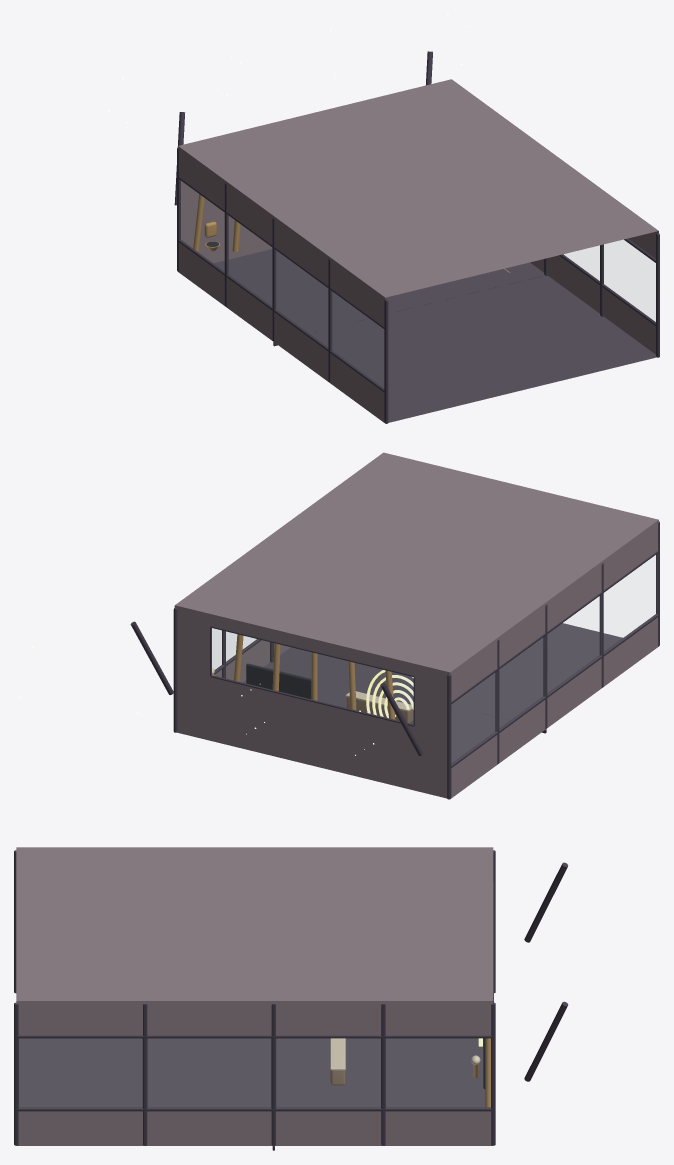
The model's file is cantina.glb.
The picture shows the model from 3 angles, top to bottom: view 1: azimuth 30°, elevation 25°; view 2: azimuth 150°, elevation 25°; view 3: azimuth 270°, elevation 25°; orthographic projection. The views are drawn at different scales.
Visible parts, largest first — view 1: Roof panels - Wall, Floor extension - Floor, Port wall - Wall, Floor - Floor, Port wall - Rib, Starboard wall - Wall, Rear bulkhead - Wall, Starboard wall - Rib, Signature architecture - Brass; view 2: Roof panels - Wall, Rear bulkhead - Wall, Port wall - Wall, Floor extension - Floor, Port wall - Rib, Floor - Floor, Signature architecture - Brass, Rear bulkhead - Rib, Signature architecture - Dark, Starboard wall - Rib, Outside the glazing - Rib, Starboard wall - Wall (+1 smaller); view 3: Roof panels - Wall, Starboard wall - Wall, Floor extension - Floor, Floor - Floor, Starboard wall - Rib, Outside the glazing - Rib, Port wall - Rib, Counter - Pale, Signature architecture - Brass.
Part boxes in pixels (x1=…): Roof panels - Wall: x1=178, y1=79, x2=658, y2=297; Floor extension - Floor: x1=309, y1=275, x2=656, y2=422; Port wall - Wall: x1=178, y1=146, x2=385, y2=422; Floor - Floor: x1=214, y1=249, x2=544, y2=332; Port wall - Rib: x1=177, y1=148, x2=388, y2=423; Starboard wall - Wall: x1=530, y1=231, x2=658, y2=354; Rear bulkhead - Wall: x1=181, y1=181, x2=272, y2=263; Starboard wall - Rib: x1=544, y1=233, x2=659, y2=357; Signature architecture - Brass: x1=193, y1=194, x2=240, y2=252; Roof panels - Wall: x1=175, y1=452, x2=658, y2=672; Rear bulkhead - Wall: x1=174, y1=605, x2=450, y2=798; Port wall - Wall: x1=450, y1=520, x2=658, y2=798; Floor extension - Floor: x1=273, y1=623, x2=622, y2=720; Port wall - Rib: x1=447, y1=521, x2=659, y2=799; Floor - Floor: x1=243, y1=662, x2=510, y2=763; Signature architecture - Brass: x1=212, y1=634, x2=395, y2=719; Rear bulkhead - Rib: x1=210, y1=626, x2=414, y2=726; Signature architecture - Dark: x1=246, y1=663, x2=311, y2=698; Starboard wall - Rib: x1=173, y1=607, x2=273, y2=732; Outside the glazing - Rib: x1=130, y1=621, x2=423, y2=755; Starboard wall - Wall: x1=214, y1=640, x2=290, y2=682; Roof panels - Wall: x1=16, y1=847, x2=493, y2=1000; Starboard wall - Wall: x1=16, y1=1001, x2=493, y2=1145; Floor extension - Floor: x1=19, y1=1038, x2=271, y2=1107; Floor - Floor: x1=276, y1=1038, x2=485, y2=1107; Starboard wall - Rib: x1=14, y1=1002, x2=495, y2=1145; Outside the glazing - Rib: x1=524, y1=862, x2=568, y2=1081; Port wall - Rib: x1=14, y1=850, x2=495, y2=993; Counter - Pale: x1=330, y1=1038, x2=345, y2=1070; Signature architecture - Brass: x1=473, y1=1038, x2=490, y2=1107.
Bounding box in the file's own units: 31.75 × 9.65 × 34.14.
